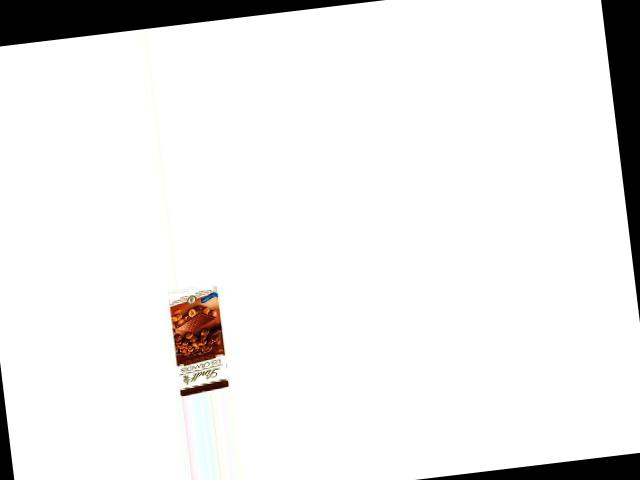chocolate: (160, 290, 232, 393)
